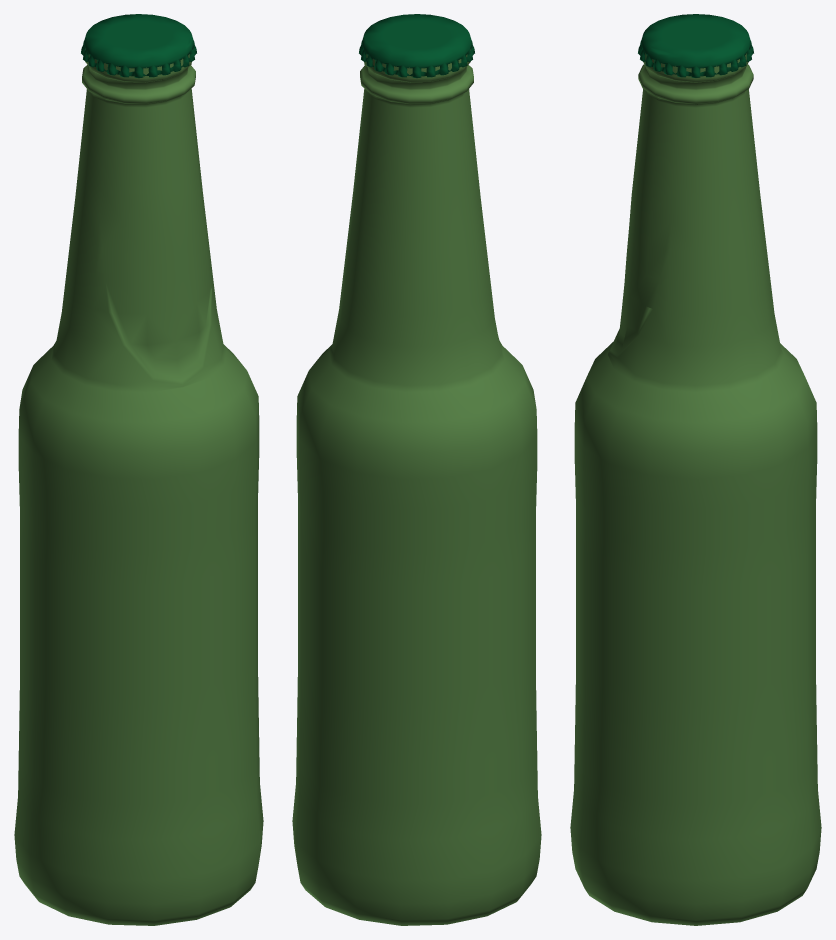
Rendered from beer.glb.
The picture shows the model from 3 angles, left to right: view 1: azimuth 30°, elevation 25°; view 2: azimuth 150°, elevation 25°; view 3: azimuth 270°, elevation 25°; orthographic projection.
Parts seen in each view (by area): view 1: botella; view 2: botella; view 3: botella.
Part boxes in pixels (box(x1,y1,x2,y2)): botella: box(14, 14, 263, 925); botella: box(292, 14, 541, 925); botella: box(570, 14, 821, 925).
Bounding box in the file's own units: 0.1273 × 0.4738 × 0.1273.
